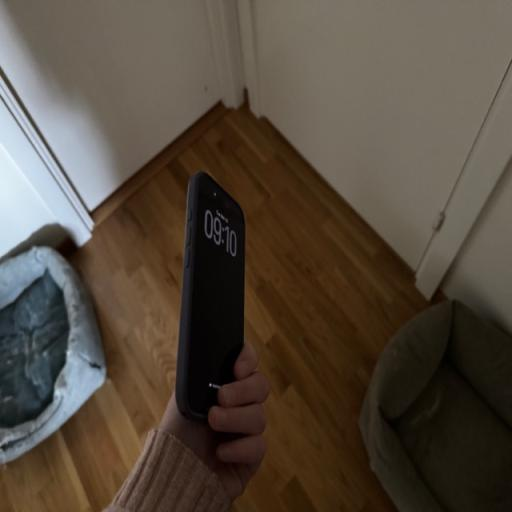phone: (188, 174, 265, 450)
